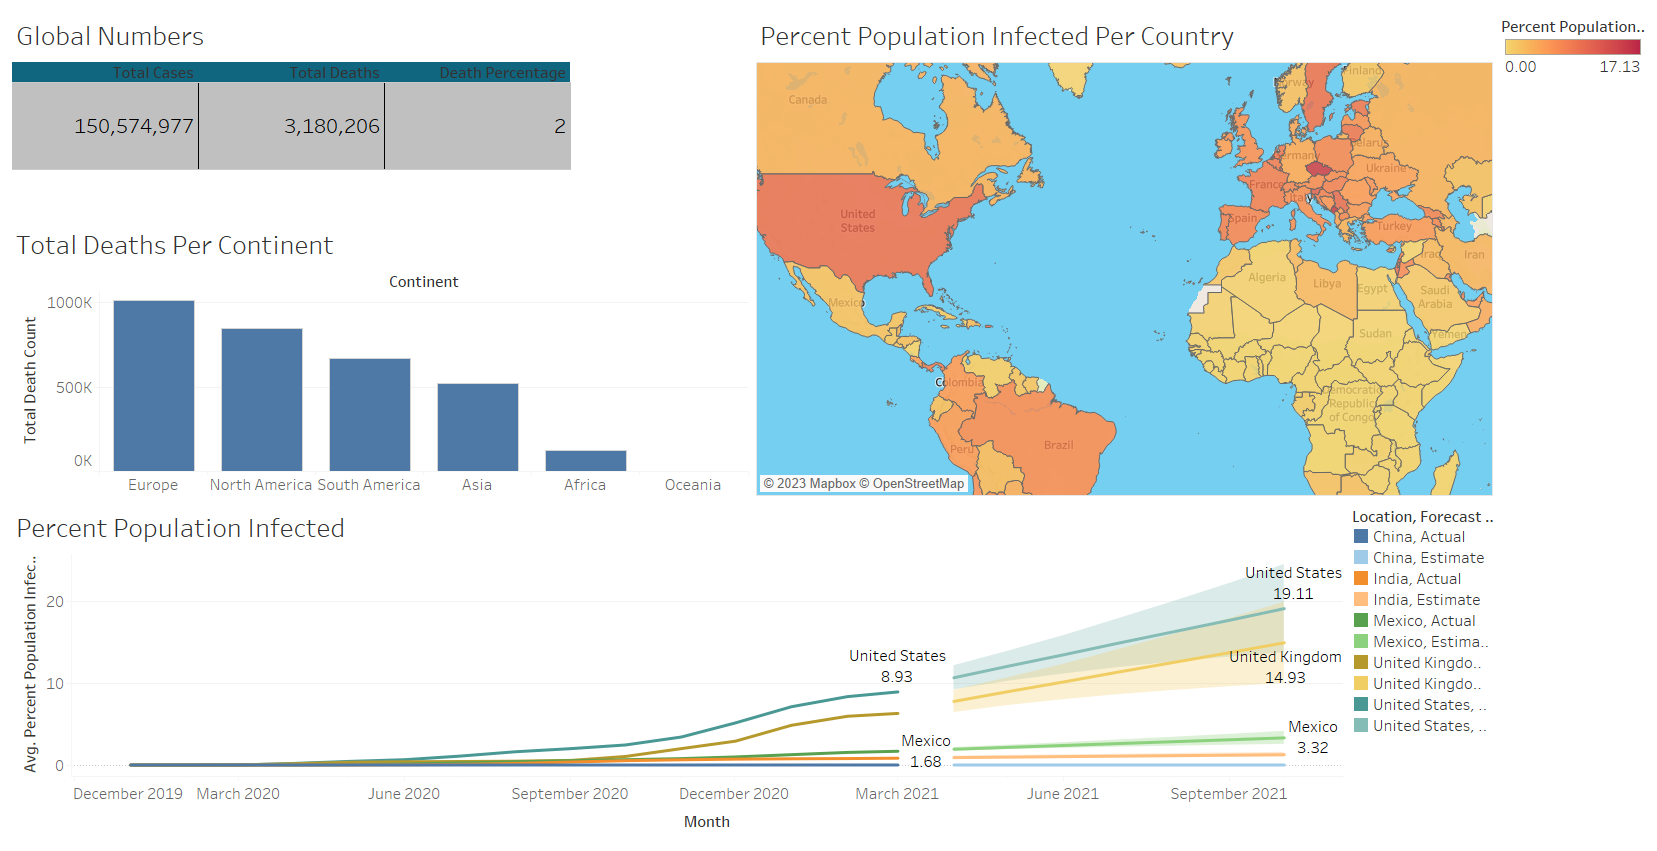

What the dashboard file says about the page in this screenshot:
{"tool":"tableau","page":{"name":"Dashboard 1","canvas":[1000,1000],"units":"permille","ordinal":0},"visuals":[{"type":"worksheet","title":"Sheet 1","mark":"Automatic","box":[4.8,9.3,449.3,245.3]},{"type":"worksheet","title":"Sheet 3","mark":"Automatic","box":[454.1,9.3,449.3,578.4]},{"type":"legend","title":"Sheet 3","param":"[federated.1u6pgzk0rhh873144wigi0cf6ax3].[sum:PercentPopulationInfected:qk]","box":[903.4,9.3,91.7,84.8]},{"type":"worksheet","title":"Sheet 2","mark":"Automatic","rows":["TotalDeathCount"],"cols":["location"],"box":[4.8,254.6,449.3,333.1]},{"type":"worksheet","title":"Sheet 4","mark":"Automatic","rows":["PercentPopulationInfected"],"cols":["date"],"box":[4.8,587.7,808,403]},{"type":"legend","title":"Sheet 4","param":"[federated.0fv2uox0hbhi61182v4641vh426j].[none:Location:nk]\n[federated.0fv2uox0h","box":[812.8,587.7,90.6,403]}]}

Visuals, with their boxes on the dashboard's canvas, which has no fixed pixel size, in thousandths of its width and height (x1, y1, x2, y2). These are canvas units, not pixel positions in the 1657x851 screenshot, which may show the page scaled, cropped or inside an application window:
"Sheet 1" worksheet: <bbox>5, 9, 454, 255</bbox>
"Sheet 3" worksheet: <bbox>454, 9, 903, 588</bbox>
"Sheet 3" legend: <bbox>903, 9, 995, 94</bbox>
"Sheet 2" worksheet: <bbox>5, 255, 454, 588</bbox>
"Sheet 4" worksheet: <bbox>5, 588, 813, 991</bbox>
"Sheet 4" legend: <bbox>813, 588, 903, 991</bbox>
